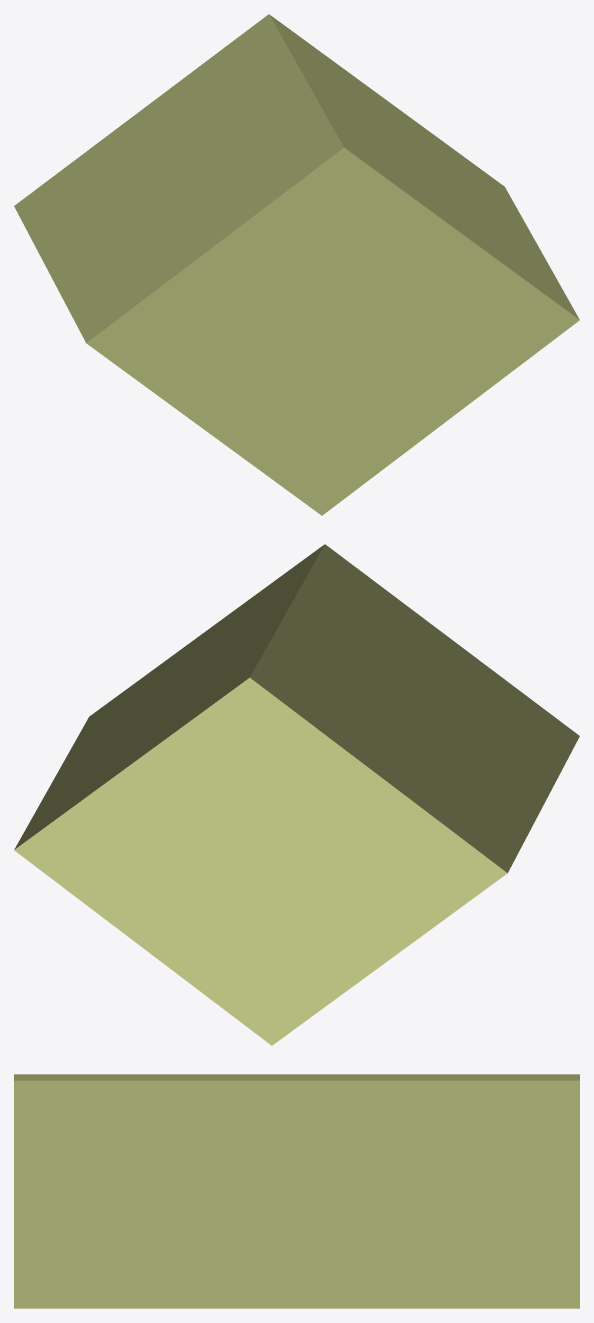
3 renders of one model, top to bottom at view 1: azimuth 30°, elevation 25°; view 2: azimuth 150°, elevation 25°; view 3: azimuth 270°, elevation 25°, orthographic. The views are drawn at different scales.
Visible parts, largest first — view 1: 0_1_1_3_2_2_3_1_3_0_1_2; view 2: 0_1_1_3_2_2_3_1_3_0_1_2; view 3: 0_1_1_3_2_2_3_1_3_0_1_2.
Part boxes in pixels (left/top/right/bottom): 0_1_1_3_2_2_3_1_3_0_1_2: left=14, top=14, right=579, bottom=515; 0_1_1_3_2_2_3_1_3_0_1_2: left=14, top=544, right=579, bottom=1045; 0_1_1_3_2_2_3_1_3_0_1_2: left=14, top=1074, right=579, bottom=1308.
Bounding box in the file's own units: 4.85 × 4 × 6.
